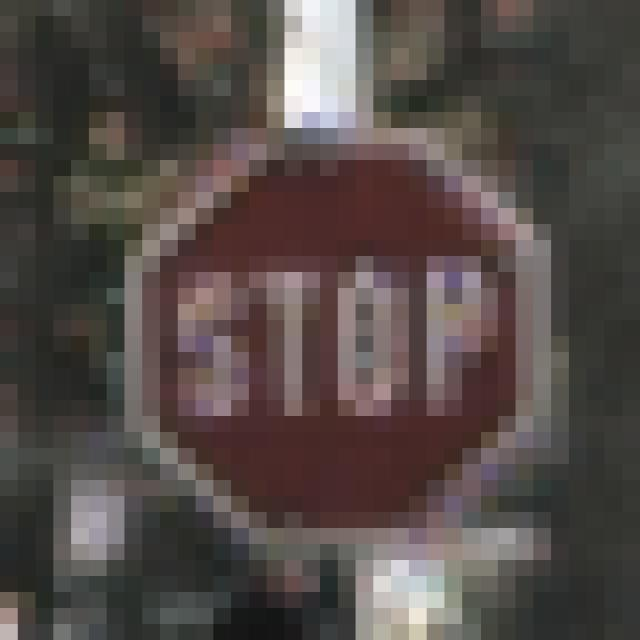STOP: (90, 97, 552, 561)
